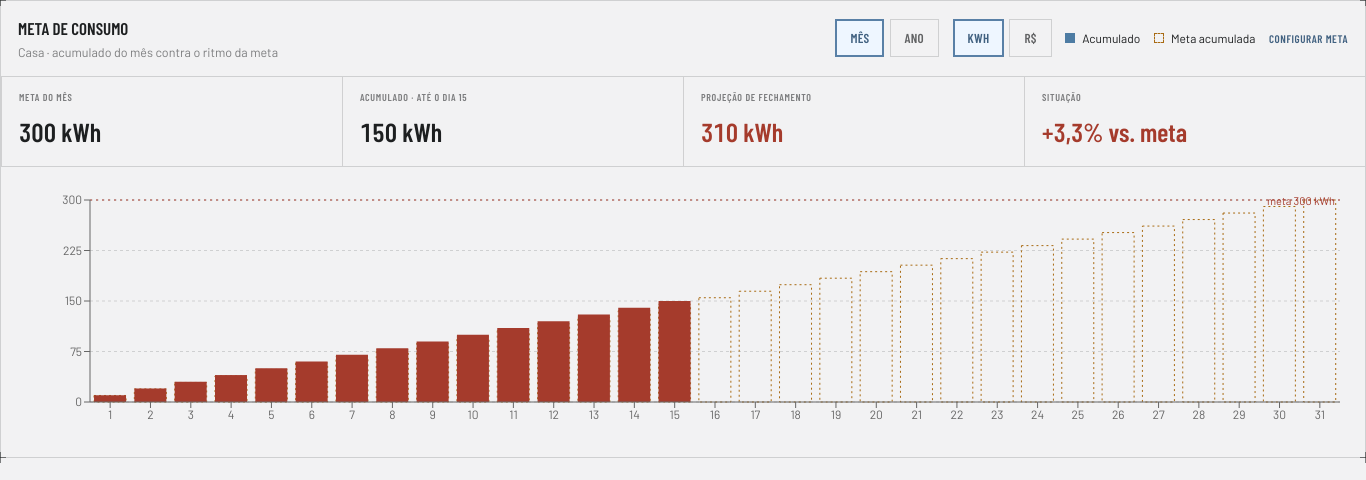
Scenario: GoalSection — sem meta e estados › unidade sem meta mostra o vazio com o link para criá-la, sem esconder a outra
Expected: the text "Acumulado · até o dia 15" is shown, [360,91,467,103]
Click the button with test id "goal-unit-BRL": (1031, 38) [1010,19,1052,57]
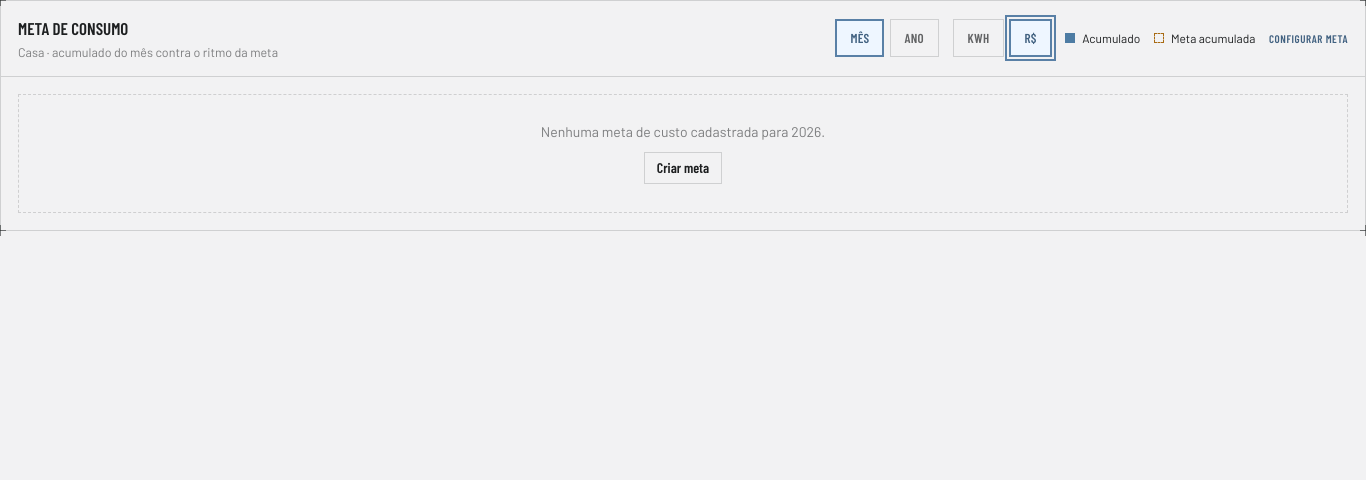
Now the element with test id "goal-empty" shows "Nenhuma meta de custo cadastrada para 2026.", box [541,123,825,140]
Click the button with test id "goal-unit-KWH": (978, 38) [952,19,1004,57]
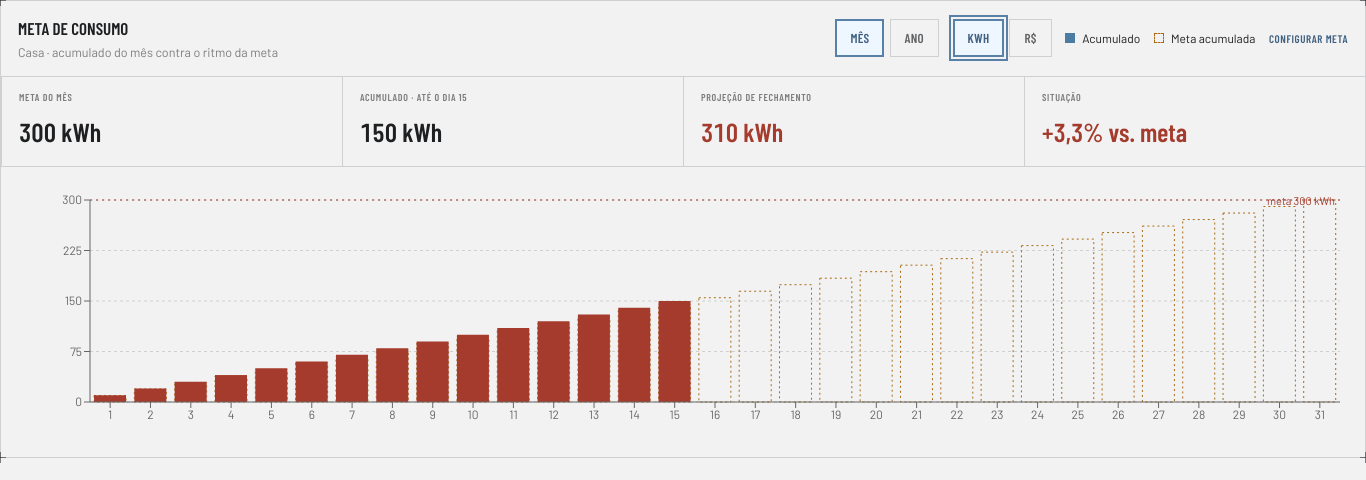
Now the text "Acumulado · até o dia 15" is shown, box [360,91,467,103]
